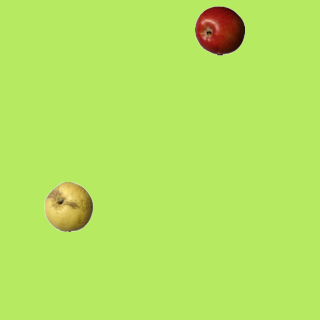Apple Braeburn: (194, 5, 244, 55)
Apple Golden 1: (43, 181, 93, 231)
